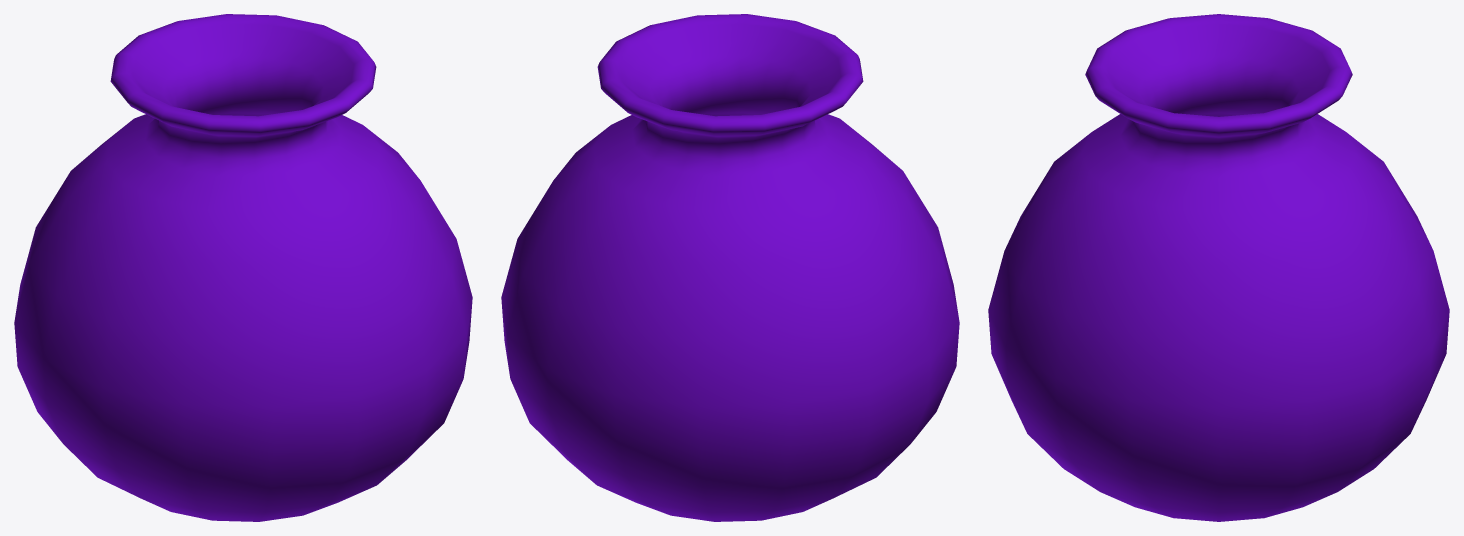
The model's file is Krug_var3.obj.
The picture shows the model from 3 angles, left to right: view 1: azimuth 30°, elevation 25°; view 2: azimuth 150°, elevation 25°; view 3: azimuth 270°, elevation 25°; orthographic projection.
Parts seen in each view (by area): view 1: Krug_2; view 2: Krug_2; view 3: Krug_2.
Boxes of the visible parts, bbox=[...] form: Krug_2: bbox=[14, 14, 472, 521]; Krug_2: bbox=[501, 14, 959, 521]; Krug_2: bbox=[988, 14, 1449, 521].
Bounding box in the file's own units: 0.4045 × 0.4096 × 0.4045.
